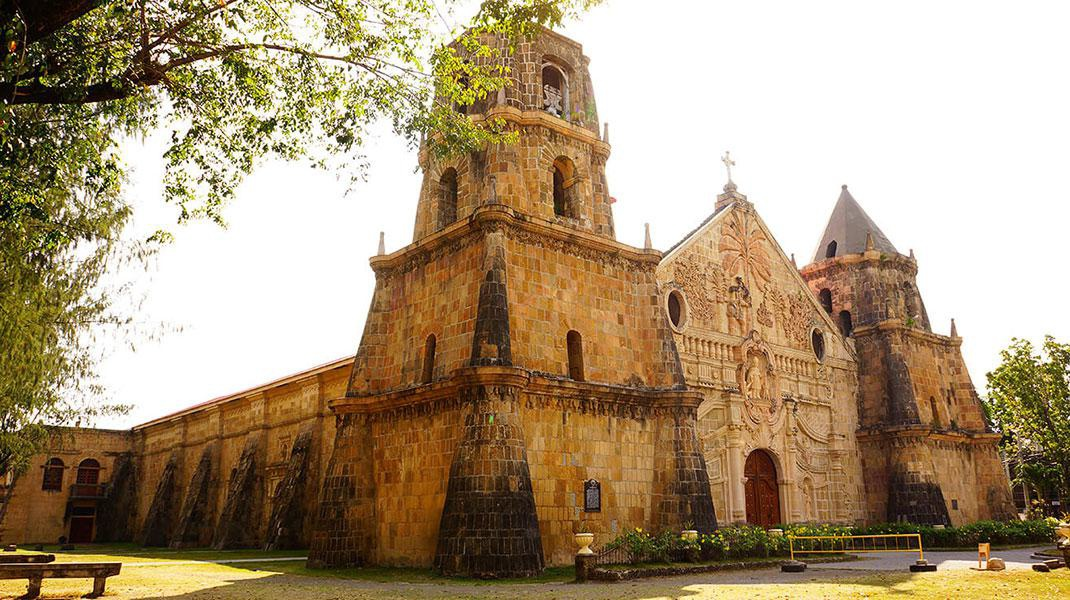miagao_church_miagao_iloilo: (340, 7, 1031, 545)
